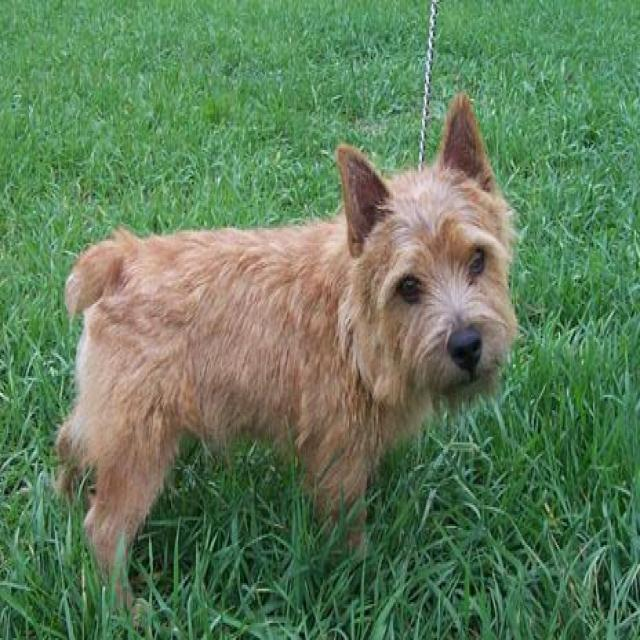adult_dog: (38, 86, 521, 615)
